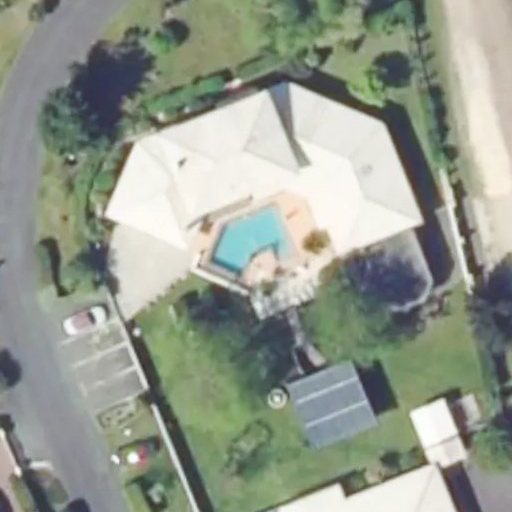pool: (199, 238, 302, 254)
